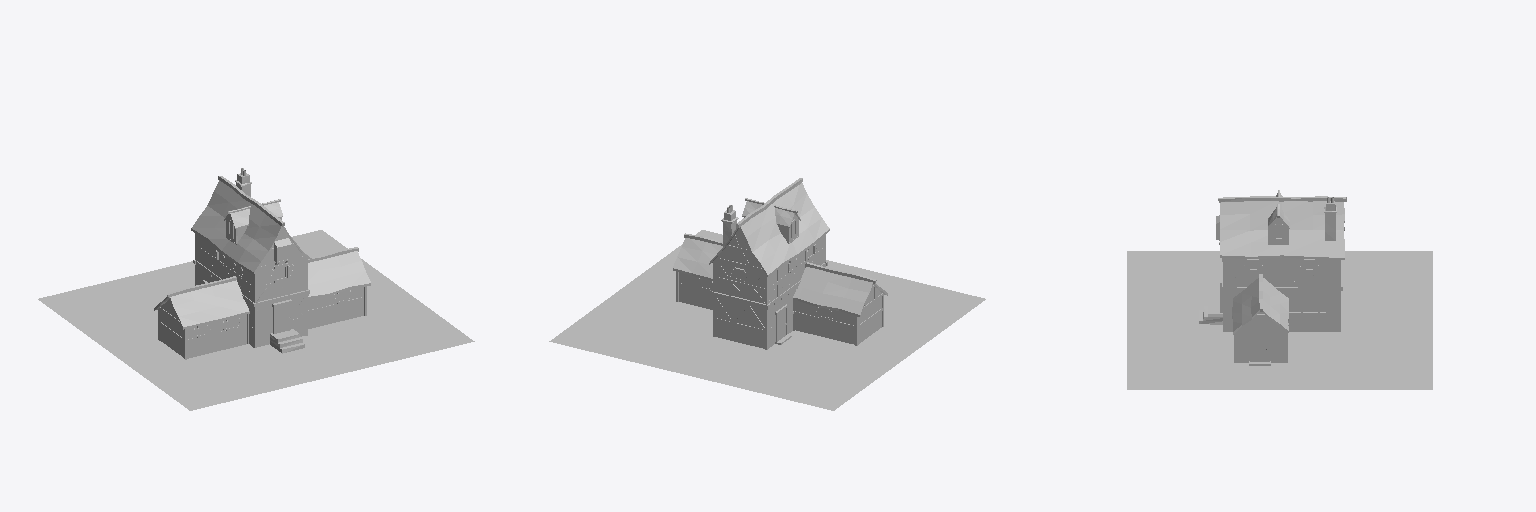
Rendered from medieval-house-2.obj.
3 views of the same model, side by side, from view 1: azimuth 30°, elevation 25°; view 2: azimuth 150°, elevation 25°; view 3: azimuth 270°, elevation 25° (orthographic).
Visible parts, largest first — view 1: Plane, Roof, Level1, WoodenBeams, Level2, RoofFrame, WindowFrames, Steps; view 2: Plane, Roof, Level1, WoodenBeams, Level2, RoofFrame, WindowFrames; view 3: Plane, Roof, Level1, WoodenBeams, Level2, RoofFrame, WindowFrames.
Part boxes in pixels (x1,y1,x2,y2): Plane: (38,230,474,410); Roof: (170,180,370,326); Level1: (160,267,363,358); WoodenBeams: (158,215,366,359); Level2: (197,227,305,301); RoofFrame: (154,176,370,329); WindowFrames: (194,220,351,337); Steps: (270,329,304,353); Plane: (549,230,985,410); Roof: (673,183,872,314); Level1: (679,272,881,348); WoodenBeams: (676,215,883,349); Level2: (716,229,824,302); RoofFrame: (673,178,887,316); WindowFrames: (696,219,832,319); Plane: (1127,251,1432,389); Roof: (1219,193,1344,331); Level1: (1226,292,1338,362); WoodenBeams: (1222,218,1342,362); Level2: (1226,258,1338,286); RoofFrame: (1218,190,1346,334); WindowFrames: (1216,215,1319,325).
Size of the model in its own units: 22.44 by 9.79 by 20.92.